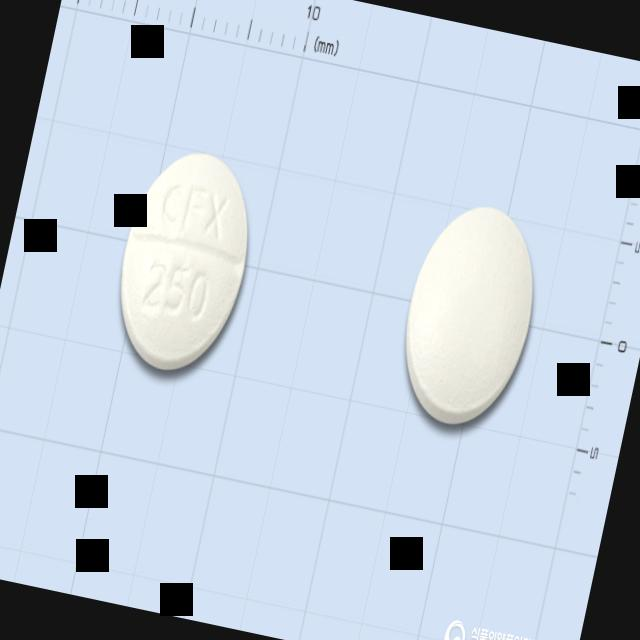Ciprofloxacin Tab- Pharma: (98, 132, 274, 392)
